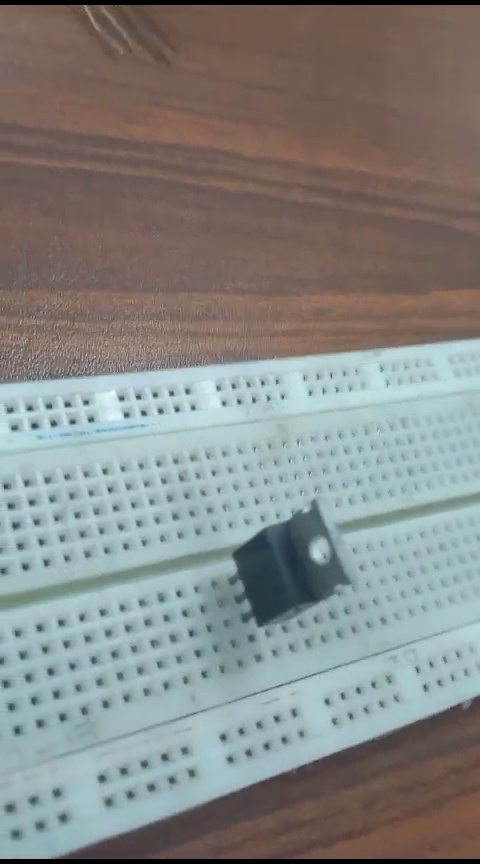voltage regulator: (218, 496, 372, 635)
